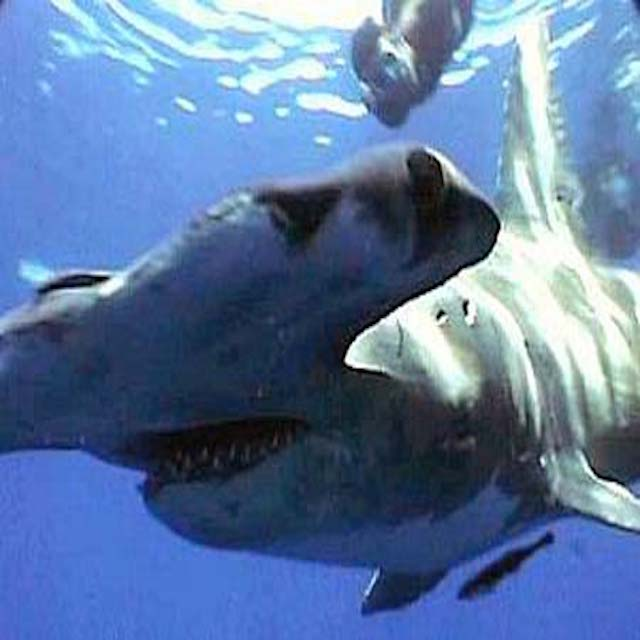hammerhead: (70, 178, 478, 587)
